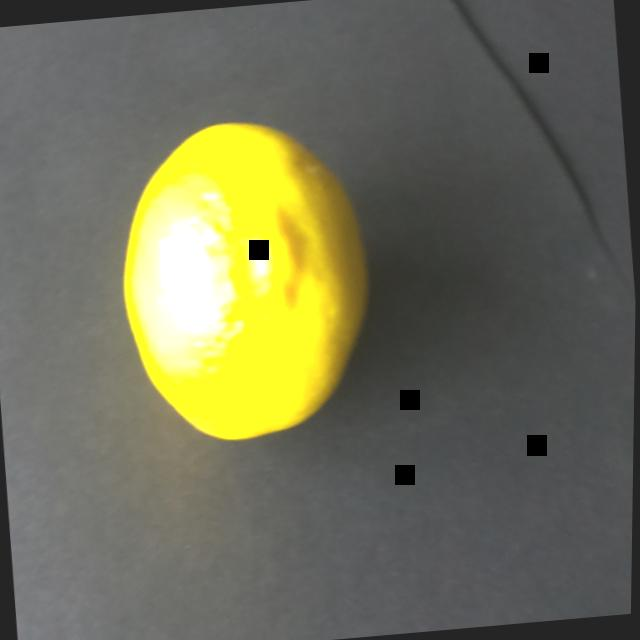Lemon: (71, 82, 402, 508)
